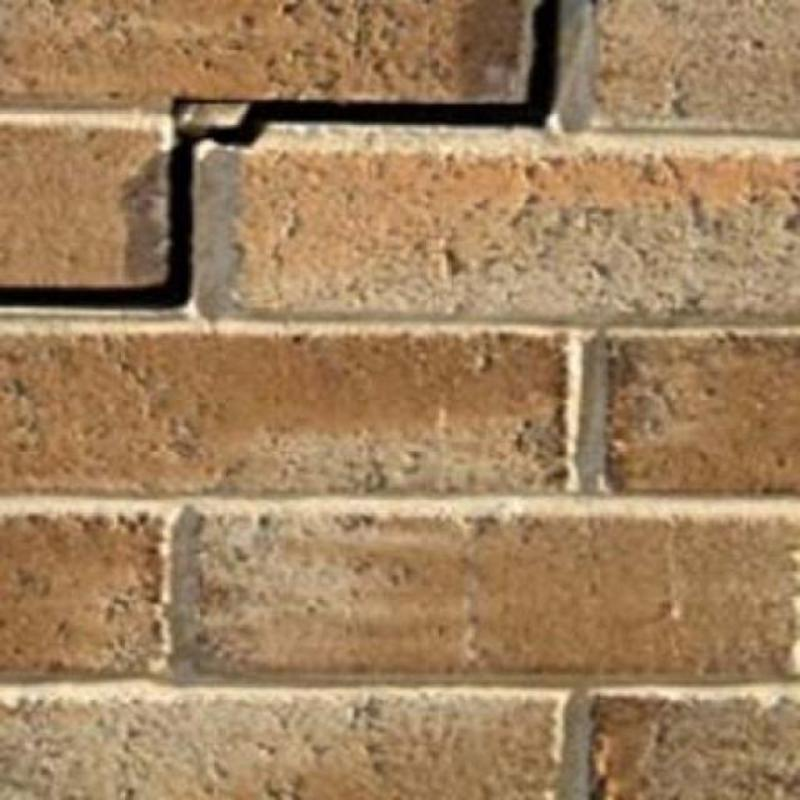pothole: (0, 0, 559, 307)
